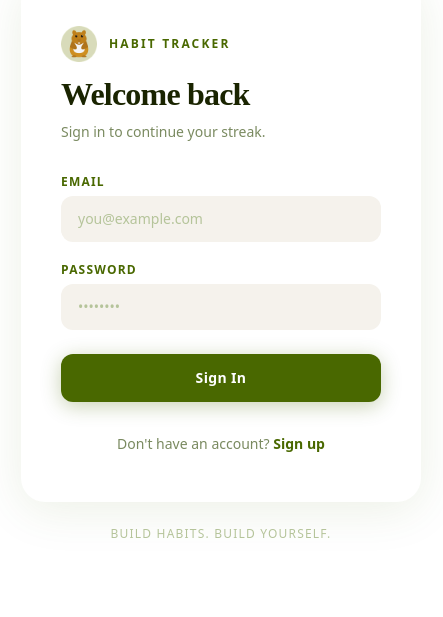
it: auth flow › shows an error for invalid login credentials
In the field with test id "auth-login-email": (221,219) [61, 196, 381, 242], type "wrong@mail.com"
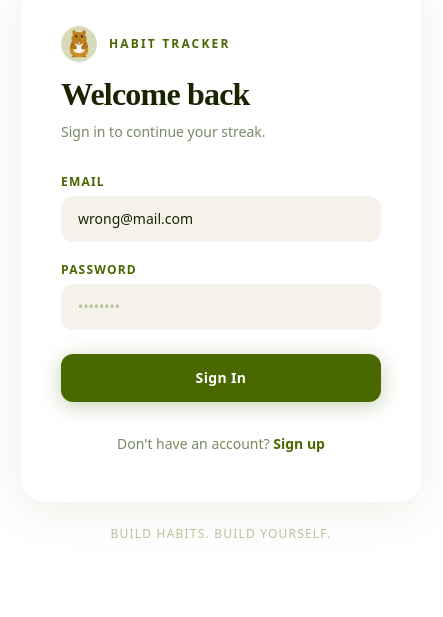
In the password field with test id "auth-login-password": (221,307) [61, 284, 381, 330], type "wrongpassword"
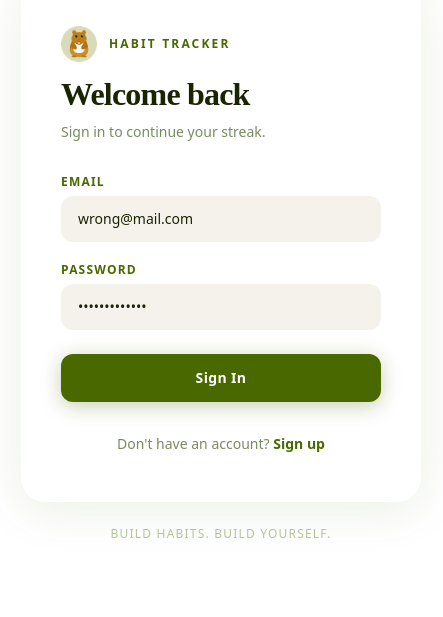
Click the button with test id "auth-login-submit": (221,378) [61, 354, 381, 402]
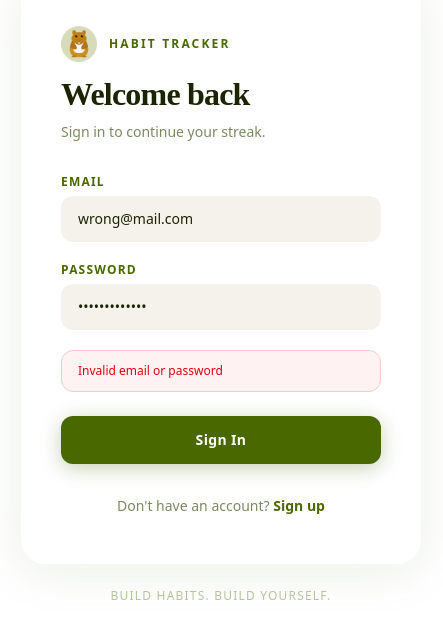
Now the text "Invalid email or password" is shown, box [61, 350, 381, 392]
